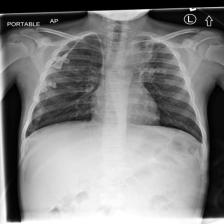normal: (21, 30, 208, 150)
